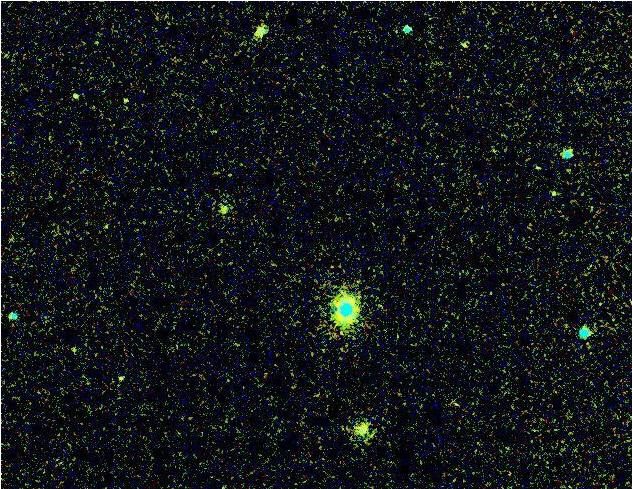star: (447, 37, 477, 67)
